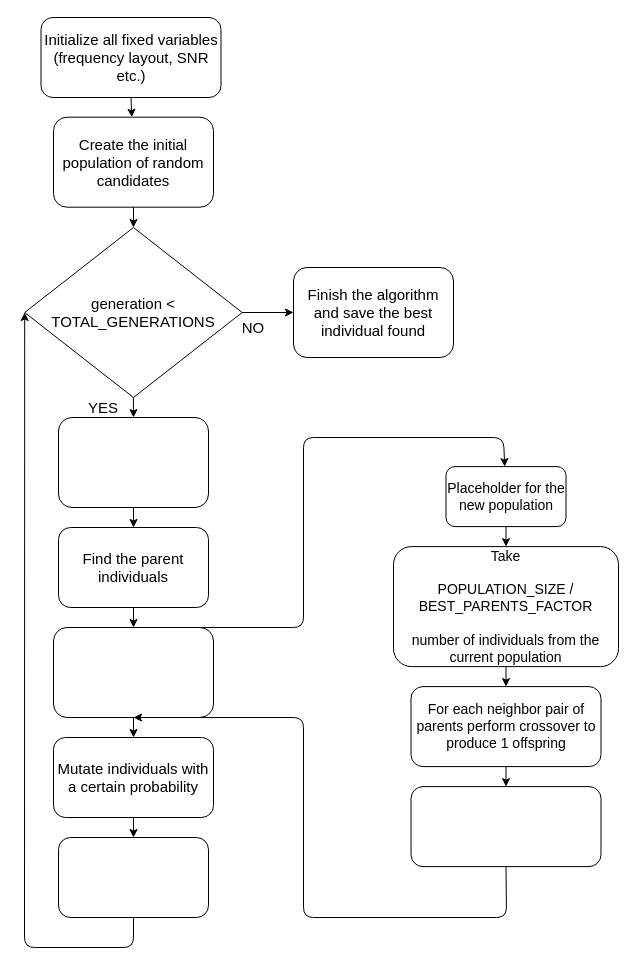
This 636x973 diagram has some shape labels left out. Each missing label, with the centre of its shape:
"Calculate fitness of all individuals in generation" belongs at (133,462).
"Create new population" belongs at (133,672).
"Current population = New population" belongs at (133,877).
"Fill the rest of the population with best individuals from the last generation" belongs at (505,826).
